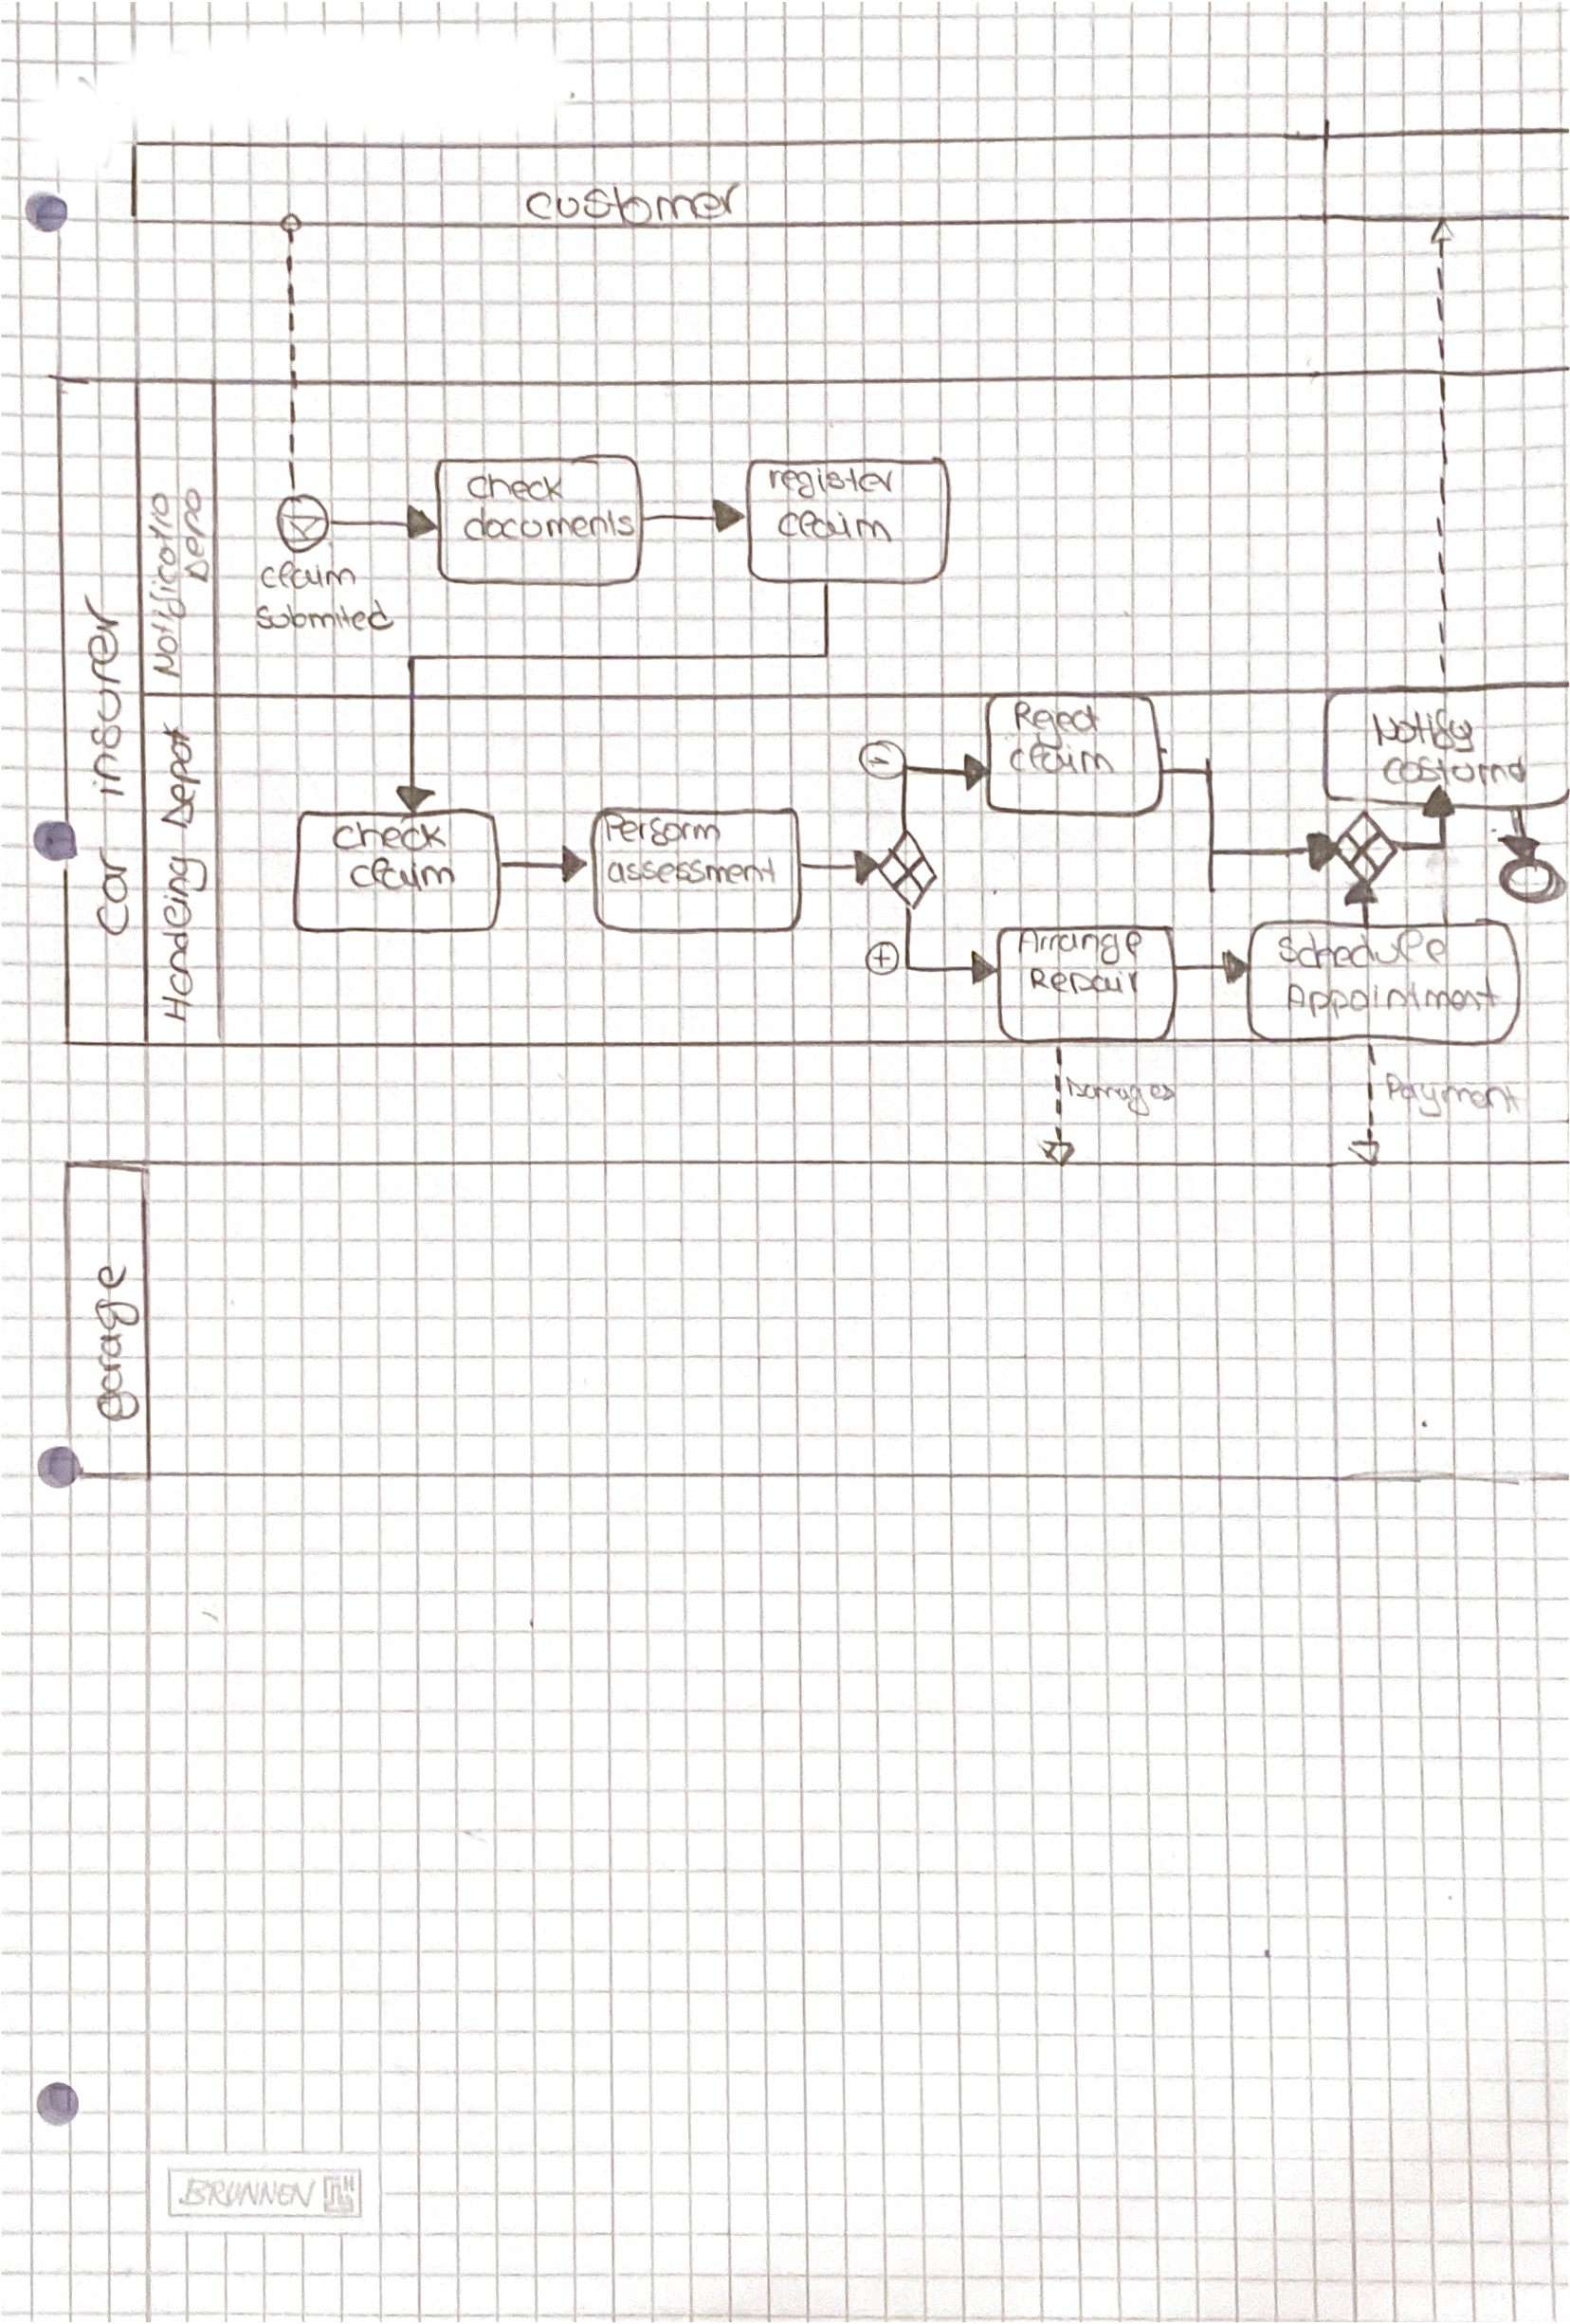+: (862, 941, 899, 974)
-: (859, 741, 908, 783)
Appointment: (1277, 969, 1509, 1027)
Arrange: (1011, 924, 1149, 971)
Damages: (1060, 1069, 1179, 1122)
Depo: (173, 484, 214, 591)
Depot: (152, 715, 207, 836)
Handling: (149, 850, 214, 1027)
Notificatio: (135, 480, 193, 685)
Notify: (1365, 703, 1481, 759)
Payment: (1377, 1066, 1528, 1125)
Perform: (596, 808, 725, 852)
Reject: (1004, 698, 1107, 755)
Repair: (1022, 960, 1146, 1003)
Schedule: (1267, 922, 1456, 976)
assessment: (599, 850, 785, 892)
car: (84, 838, 138, 943)
check: (324, 817, 452, 857), (459, 468, 571, 507)
claim: (342, 852, 463, 899), (769, 505, 897, 549), (1001, 738, 1121, 783), (254, 557, 363, 594)
costumer: (1372, 748, 1537, 794)
customer: (517, 175, 745, 233)
documents: (456, 501, 640, 549)
garage: (84, 1258, 147, 1428)
insurer: (82, 591, 130, 806)
register: (759, 464, 899, 507)
submited: (247, 592, 400, 638)
